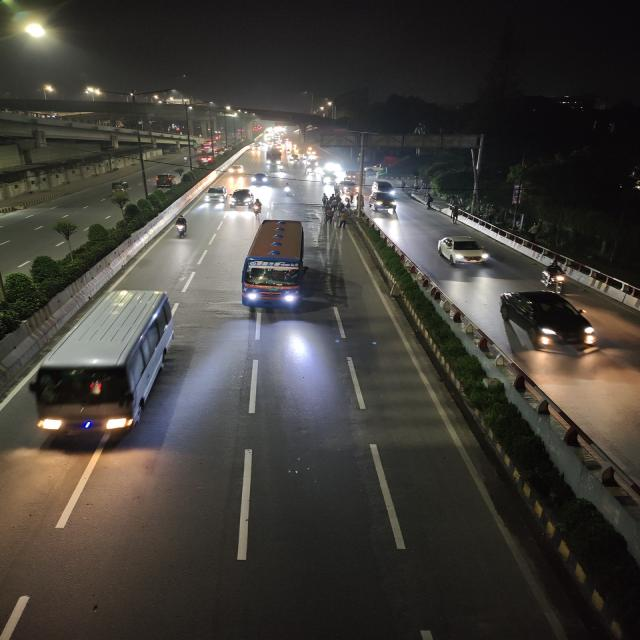bus: (22, 287, 183, 449), (237, 218, 311, 315), (265, 150, 283, 169)
car: (495, 288, 604, 360), (434, 233, 494, 271), (368, 191, 400, 213), (229, 186, 256, 209), (203, 184, 227, 205), (152, 172, 178, 188), (372, 178, 398, 194), (249, 172, 271, 186), (226, 162, 246, 175)
cng: (106, 178, 132, 197)
motorcycle: (535, 258, 572, 293), (170, 214, 192, 241), (280, 182, 296, 201), (250, 198, 265, 218)
pedestrian: (423, 194, 437, 212), (336, 214, 349, 232), (323, 192, 336, 209), (318, 192, 331, 207), (450, 206, 459, 226)
